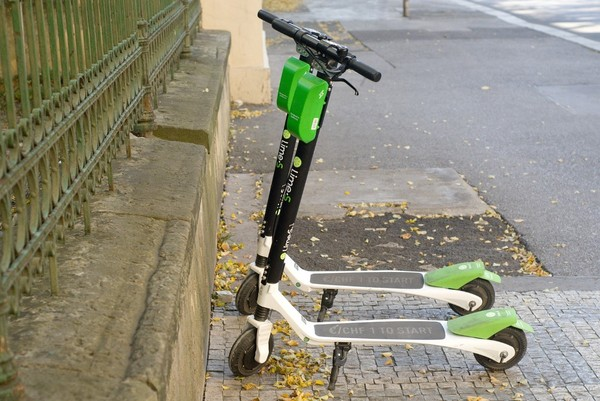scooter: (229, 37, 534, 381)
